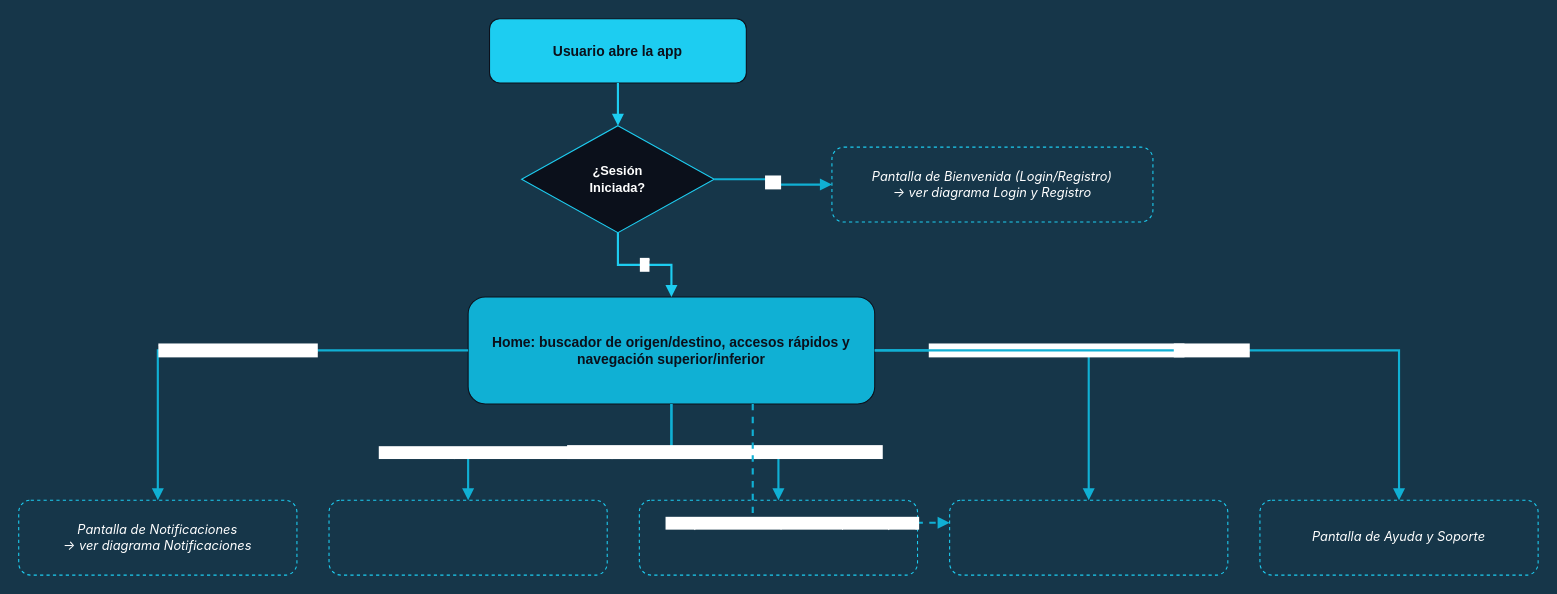
This 1557x594 diagram has some shape labels left out. The centre of each missing label's shape, as x and y in pixels:
Pantalla Perfil → ver diagrama Perfil: (x=467, y=537)
Pantalla Rutas con resultados → ver diagrama Rutas: (x=1088, y=537)
Pantalla Tiquetes → ver diagrama Tiquetes: (x=778, y=537)
